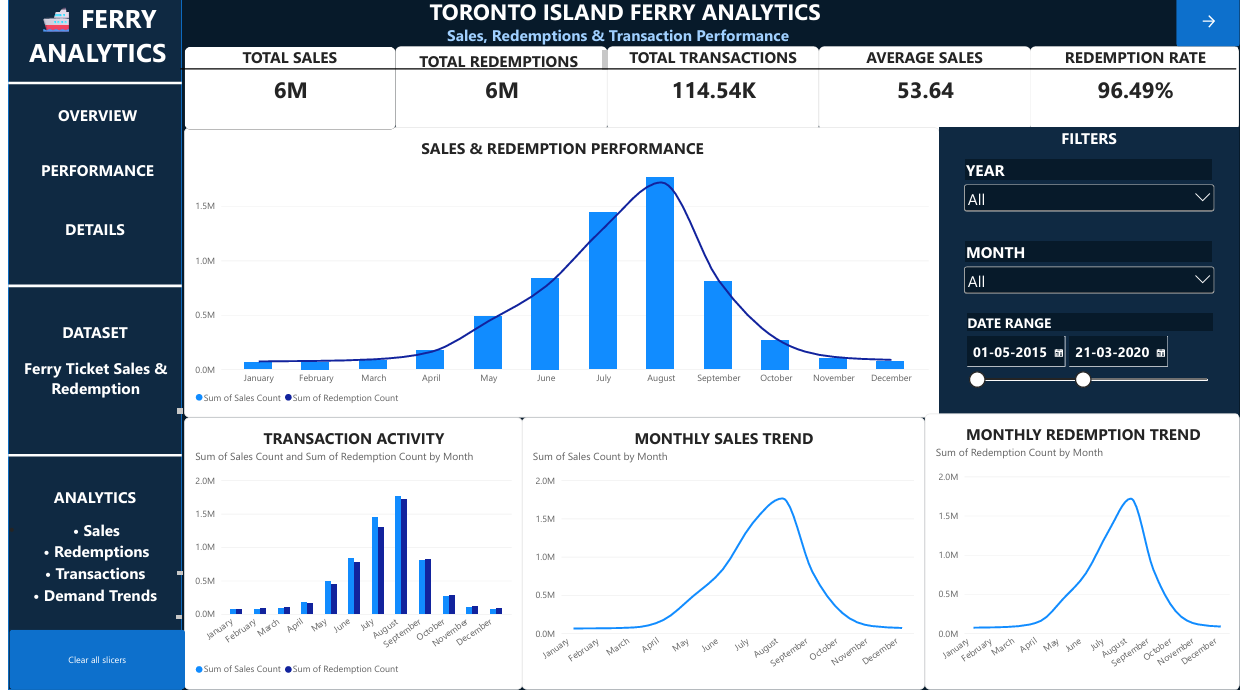

This screenshot's page, from the dashboard's own definition file:
{"tool":"powerbi","page":{"name":"Ferry Overview ","canvas":[1920,1080],"ordinal":0},"visuals":[{"type":"cardVisual","fields":{"Data":["Sum(Toronto Island Ferry Tickets.Redemption Count)"]},"box":[603.5,78.5,330,130],"z":0},{"type":"cardVisual","fields":{"Data":["CountNonNull(Toronto Island Ferry Tickets._id)"]},"box":[933.1,78.5,330,130],"z":1000},{"type":"cardVisual","fields":{"Data":["Avg(Toronto Island Ferry Tickets.Sales Count)"]},"box":[1262.8,78.5,330,130],"z":2000},{"type":"textbox","title":"TORONTO ISLAND FERRY ANALYTICS","box":[2,0,1918,44],"z":3000},{"type":"textbox","box":[2,64,266,14],"z":4000},{"type":"lineClusteredColumnComboChart","title":"SALES & REDEMPTION PERFORMANCE","fields":{"Category":["Toronto Island Ferry Tickets.Timestamp.Variation.Date Hierarchy.Month"],"Y":["Sum(Toronto Island Ferry Tickets.Sales Count)"],"Y2":["Sum(Toronto Island Ferry Tickets.Redemption Count)"]},"box":[273.8,204.1,1177.3,451.7],"z":5000},{"type":"cardVisual","fields":{"Data":["Sum(Toronto Island Ferry Tickets.Sales Count)"]},"box":[273.8,78.5,330,130],"z":6000},{"type":"textbox","box":[0,380,268,160],"z":7000},{"type":"textbox","box":[1262.8,78.5,329.7,36.6],"z":8000},{"type":"textbox","box":[933.1,78.5,329.7,36.6],"z":9000},{"type":"textbox","box":[603.5,83.7,329.7,31.4],"z":10000},{"type":"textbox","box":[273.8,78.5,329.7,36.6],"z":11000},{"type":"cardVisual","fields":{"Data":["Toronto Island Ferry Tickets.Redemption Rate"]},"box":[1592.4,78.5,327.9,130.8],"z":12000},{"type":"textbox","box":[1592.4,78.5,327.9,36.6],"z":13000},{"type":"actionButton","box":[1820,0,100,78],"z":14000},{"type":"shape","box":[0,0,269.7,1080.3],"z":15000},{"type":"textbox","title":"🚢 FERRY ANALYTICS","box":[4,6,270,116],"z":16000},{"type":"actionButton","title":"OVERVIEW","box":[4,168,270,54],"z":17000},{"type":"shape","box":[268,52,1644.8,122.1],"z":18000},{"type":"actionButton","title":"PERFORMANCE","box":[4,254,270.3,57.6],"z":19000},{"type":"textbox","title":"Ferry Ticket Sales & Redemption","box":[0,562,272,88],"z":20000},{"type":"actionButton","title":"DETAILS","box":[0,346,270,58],"z":21000},{"type":"shape","box":[0,102,270,66],"z":22000},{"type":"shape","box":[1451.2,204.1,467.4,451.7],"z":23000},{"type":"shape","box":[0,396,270,110],"z":24000},{"type":"textbox","title":"DATASET","box":[0,506,270,112],"z":25000},{"type":"shape","box":[0,650,270,130],"z":26000},{"type":"textbox","title":"ANALYTICS","box":[0,764,270,94],"z":27000},{"type":"textbox","title":"• Sales","box":[2,814,270,88],"z":28000},{"type":"textbox","title":"• Transactions","box":[0,882,270,88],"z":29000},{"type":"textbox","title":"FILTERS","box":[1452,204,464,34],"z":30000},{"type":"slicer","fields":{"Values":["Toronto Island Ferry Tickets.Timestamp.Variation.Date Hierarchy.Year"]},"box":[1484,254,400,150],"z":31000},{"type":"slicer","title":"MONTH","fields":{"Values":["Toronto Island Ferry Tickets.Timestamp.Variation.Date Hierarchy.Month"]},"box":[1484,382,400,150],"z":32000},{"type":"slicer","fields":{"Values":["Toronto Island Ferry Tickets.Timestamp"]},"box":[1486.1,493.6,399.4,162.2],"z":33000},{"type":"lineChart","title":"MONTHLY SALES TREND","fields":{"Category":["Toronto Island Ferry Tickets.Timestamp.Variation.Date Hierarchy.Month"],"Y":["Sum(Toronto Island Ferry Tickets.Sales Count)"]},"box":[800,656,627.9,423.8],"z":34000},{"type":"lineChart","title":"MONTHLY REDEMPTION TREND","fields":{"Category":["Toronto Island Ferry Tickets.Timestamp.Variation.Date Hierarchy.Month"],"Y":["Sum(Toronto Island Ferry Tickets.Redemption Count)"]},"box":[1428,650,492,430],"z":35000},{"type":"clusteredColumnChart","title":"TRANSACTION ACTIVITY","fields":{"Category":["Toronto Island Ferry Tickets.Timestamp.Variation.Date Hierarchy.Month"],"Y":["Sum(Toronto Island Ferry Tickets.Sales Count)","Sum(Toronto Island Ferry Tickets.Redemption Count)"]},"box":[273.8,655.8,526.7,423.8],"z":36000},{"type":"textbox","title":"Sales, Redemptions & Transaction Performance","box":[273.8,43.6,1351.7,99.4],"z":37000},{"type":"actionButton","box":[2.1,987.1,273.4,91.8],"z":38000}]}

Visuals, with their boxes in screenshot pixels (x1, y1, x2, y2), scaled from the page's 1920x1080 canvas onto the 1242x697 screenshot:
cardVisual - Sum(Toronto Island Ferry Tickets.Redemption Count): [390, 51, 604, 135]
cardVisual - CountNonNull(Toronto Island Ferry Tickets._id): [604, 51, 817, 135]
cardVisual - Avg(Toronto Island Ferry Tickets.Sales Count): [817, 51, 1030, 135]
"TORONTO ISLAND FERRY ANALYTICS" textbox: [1, 0, 1241, 28]
textbox: [1, 41, 173, 50]
"SALES & REDEMPTION PERFORMANCE" lineClusteredColumnComboChart: [177, 132, 939, 423]
cardVisual - Sum(Toronto Island Ferry Tickets.Sales Count): [177, 51, 391, 135]
textbox: [0, 245, 173, 348]
textbox: [817, 51, 1030, 74]
textbox: [604, 51, 817, 74]
textbox: [390, 54, 604, 74]
textbox: [177, 51, 390, 74]
cardVisual - Toronto Island Ferry Tickets.Redemption Rate: [1030, 51, 1241, 135]
textbox: [1030, 51, 1241, 74]
actionButton: [1177, 0, 1241, 50]
shape: [0, 0, 174, 696]
"🚢 FERRY ANALYTICS" textbox: [3, 4, 177, 79]
"OVERVIEW" actionButton: [3, 108, 177, 143]
shape: [173, 34, 1237, 112]
"PERFORMANCE" actionButton: [3, 164, 177, 201]
"Ferry Ticket Sales & Redemption" textbox: [0, 363, 176, 419]
"DETAILS" actionButton: [0, 223, 175, 261]
shape: [0, 66, 175, 108]
shape: [939, 132, 1241, 423]
shape: [0, 256, 175, 327]
"DATASET" textbox: [0, 327, 175, 399]
shape: [0, 419, 175, 503]
"ANALYTICS" textbox: [0, 493, 175, 554]
"• Sales" textbox: [1, 525, 176, 582]
"• Transactions" textbox: [0, 569, 175, 626]
"FILTERS" textbox: [939, 132, 1239, 154]
slicer - Toronto Island Ferry Tickets.Timestamp.Variation.Date Hierarchy.Year: [960, 164, 1219, 261]
"MONTH" slicer: [960, 247, 1219, 343]
slicer - Toronto Island Ferry Tickets.Timestamp: [961, 319, 1220, 423]
"MONTHLY SALES TREND" lineChart: [518, 423, 924, 696]
"MONTHLY REDEMPTION TREND" lineChart: [924, 419, 1241, 696]
"TRANSACTION ACTIVITY" clusteredColumnChart: [177, 423, 518, 696]
"Sales, Redemptions & Transaction Performance" textbox: [177, 28, 1051, 92]
actionButton: [1, 637, 178, 696]
